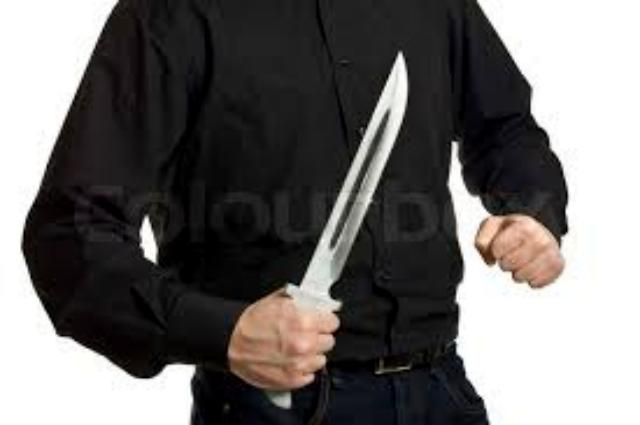long knife: (240, 47, 438, 412)
